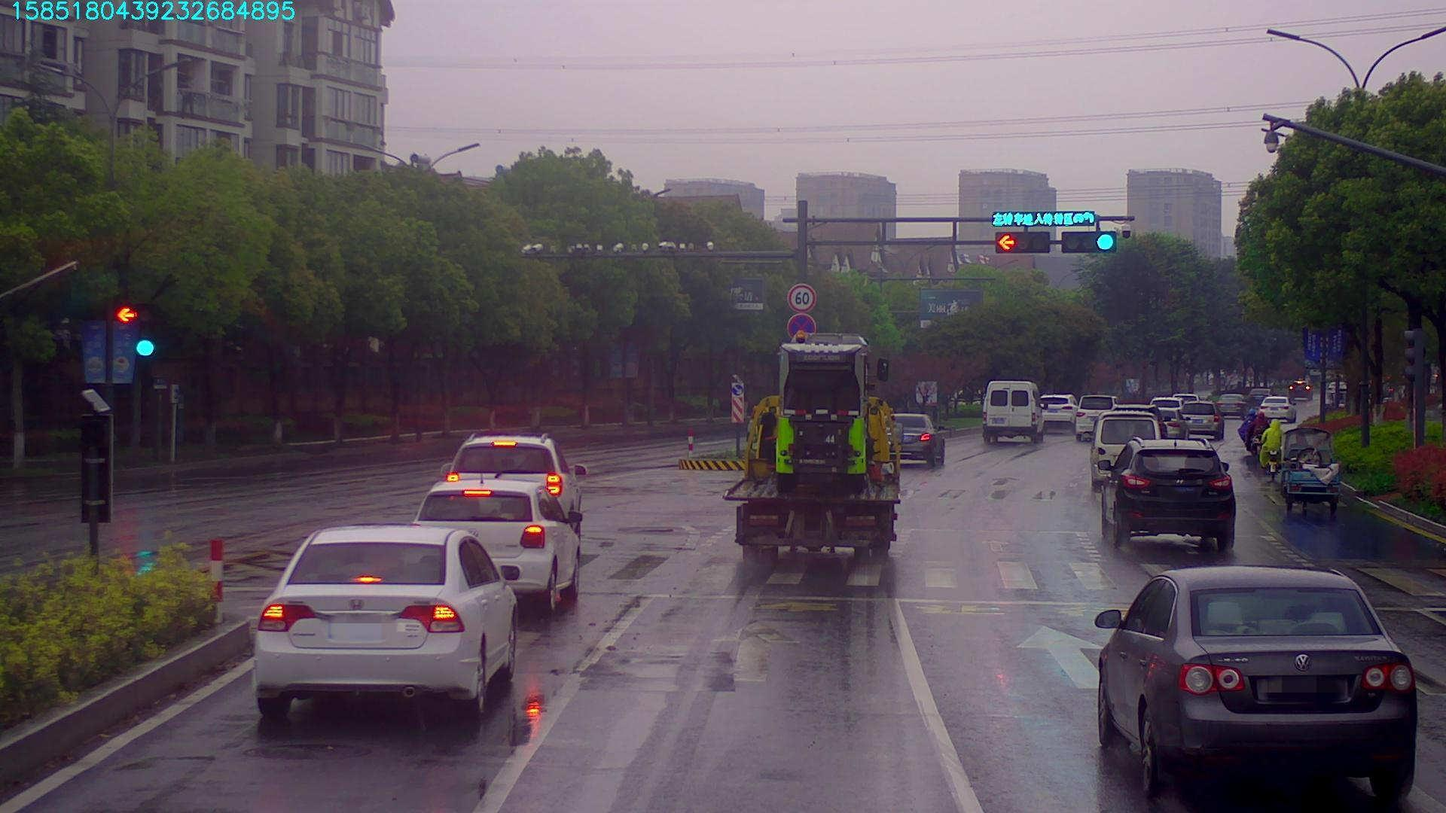green: (1061, 233, 1118, 257)
red: (995, 233, 1052, 253)
wait_on: (990, 207, 1096, 226)
